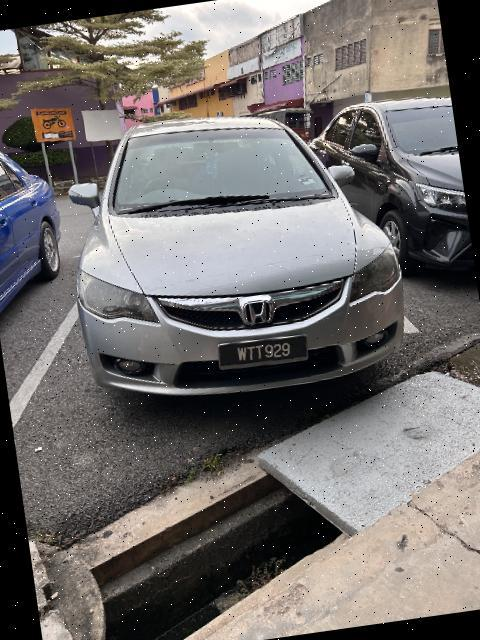License_Plate: (216, 332, 311, 379)
WTT929: (216, 332, 311, 379)
car: (32, 84, 418, 438)
